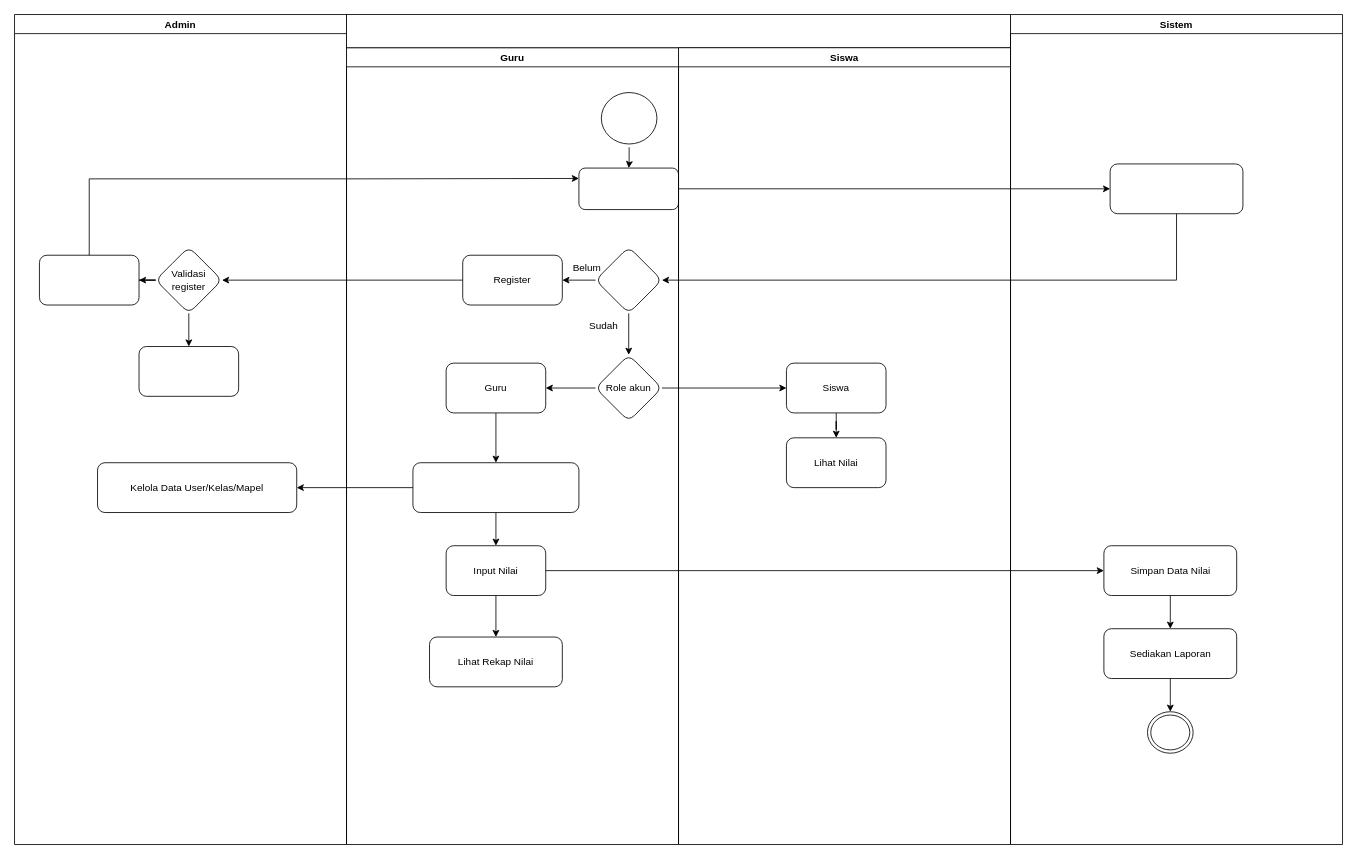
Image size: 1357x859. Some labels were removed from this diagram. Here are the shapes that lost their labels. From the top down, the centre of each, then its label:
At [678,31]: "USER".
At [628,188]: "Login".
At [1176,188]: "Validasi Login".
At [89,279]: "Akun ter - register".
At [628,279]: "Sudah register".
At [188,371]: "Tidak bisa login".
At [495,487]: "Pilih Kelas & Mapel".
